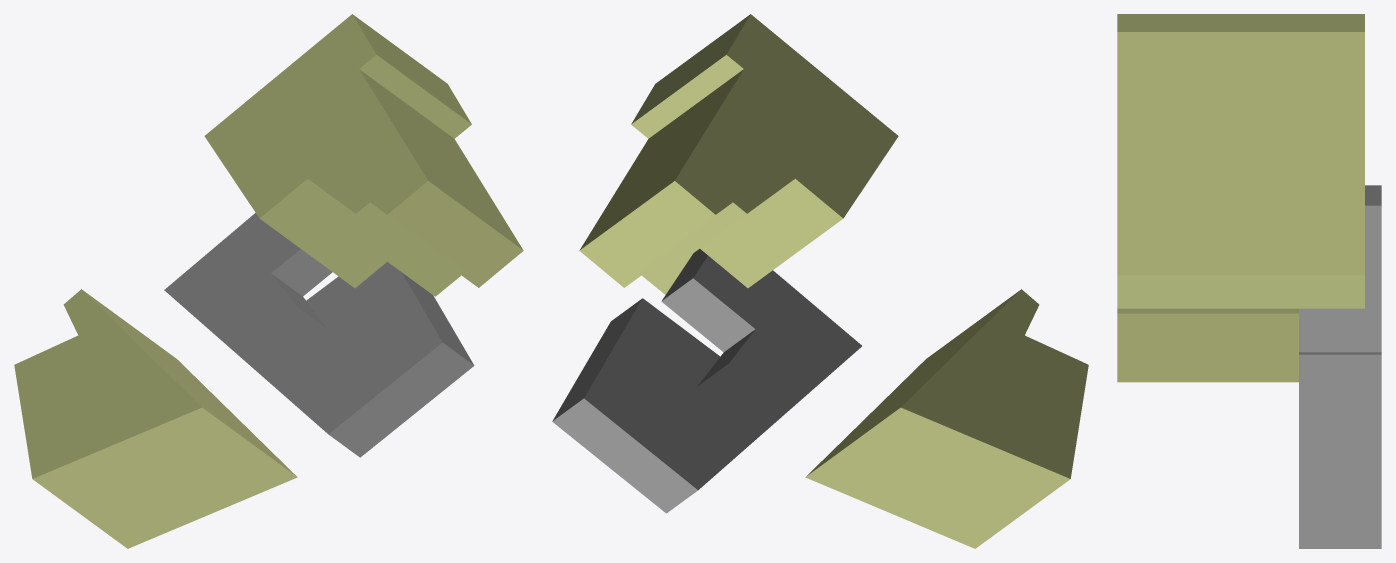
3 renders of one model, left to right at view 1: azimuth 30°, elevation 25°; view 2: azimuth 150°, elevation 25°; view 3: azimuth 270°, elevation 25°, orthographic. The views are drawn at different scales.
Visible parts, largest first — view 1: 0_1_0_2_0_0_1_3_0_2; view 2: 0_1_0_2_0_0_1_3_0_2; view 3: 0_1_0_2_0_0_1_3_0_2.
Part boxes in pixels (x1,y1,x2,y2): 0_1_0_2_0_0_1_3_0_2: [14, 14, 523, 548]; 0_1_0_2_0_0_1_3_0_2: [552, 14, 1088, 548]; 0_1_0_2_0_0_1_3_0_2: [1117, 14, 1381, 548].
Bounding box in the file's own units: 23.66 × 21.89 × 9.6.
